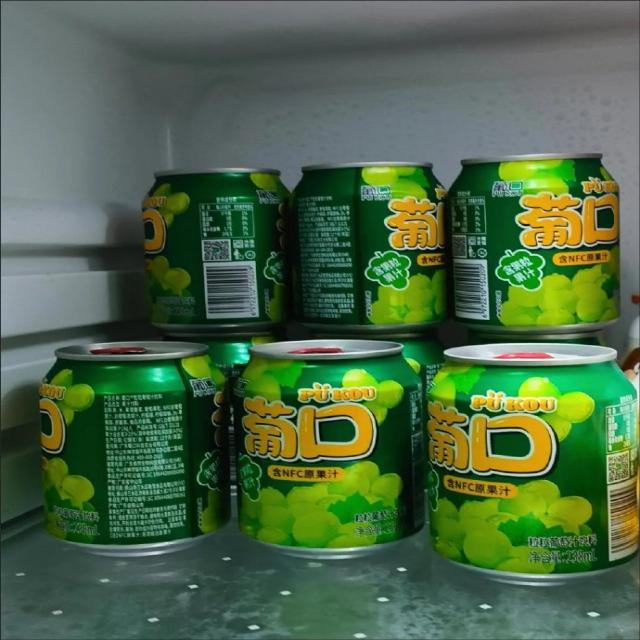can: (423, 336, 640, 589), (31, 338, 230, 560), (233, 334, 426, 562), (445, 148, 625, 335), (134, 164, 294, 339), (295, 158, 444, 338)
